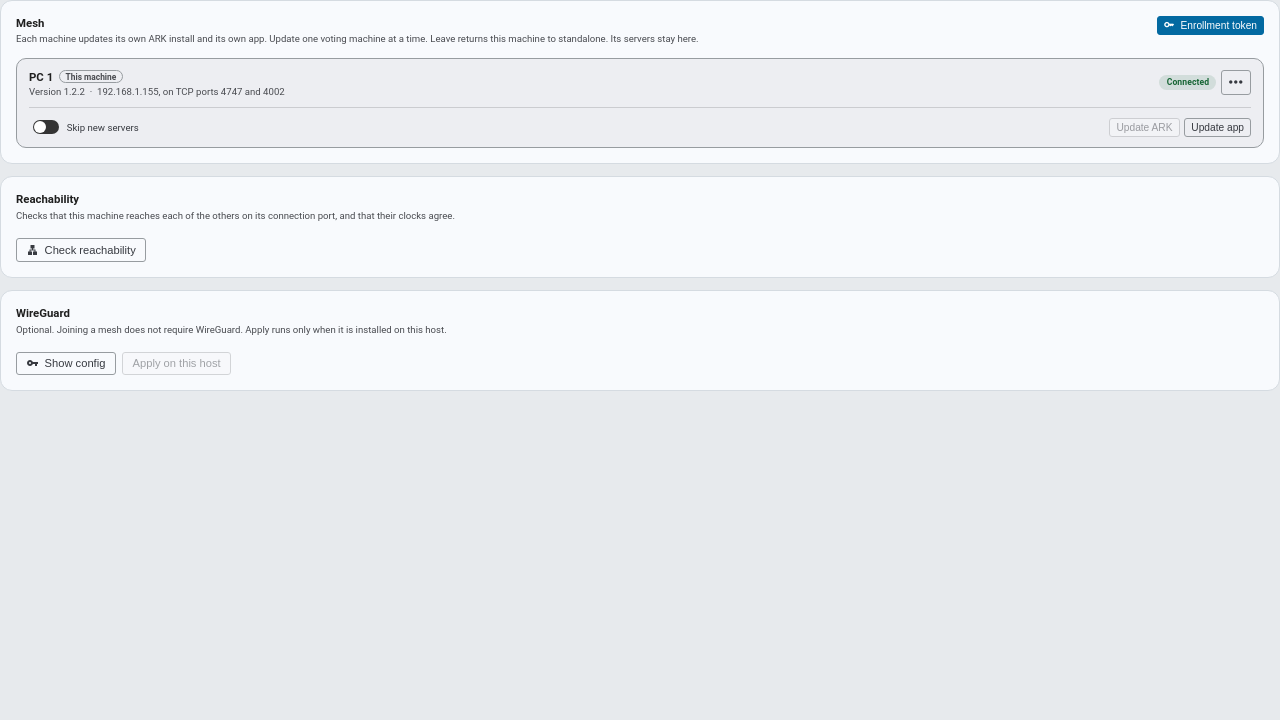
it: MeshSettingsComponent › the address other machines use › changes a machine's address, waiting for every machine to check it first
Click the button with class "mesh-node-more" at (1236, 82), box [1221,70,1251,95]
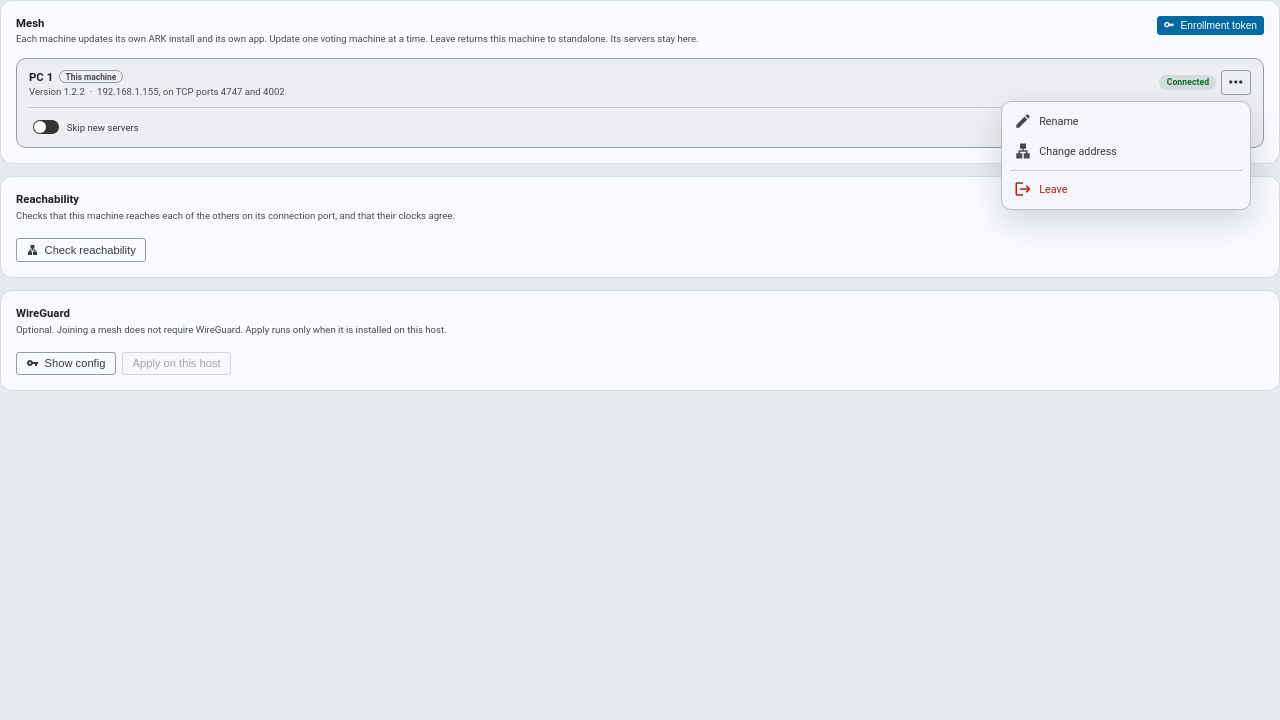
Click the menu item "Change address" at (1126, 151), box [1006,136,1246,166]
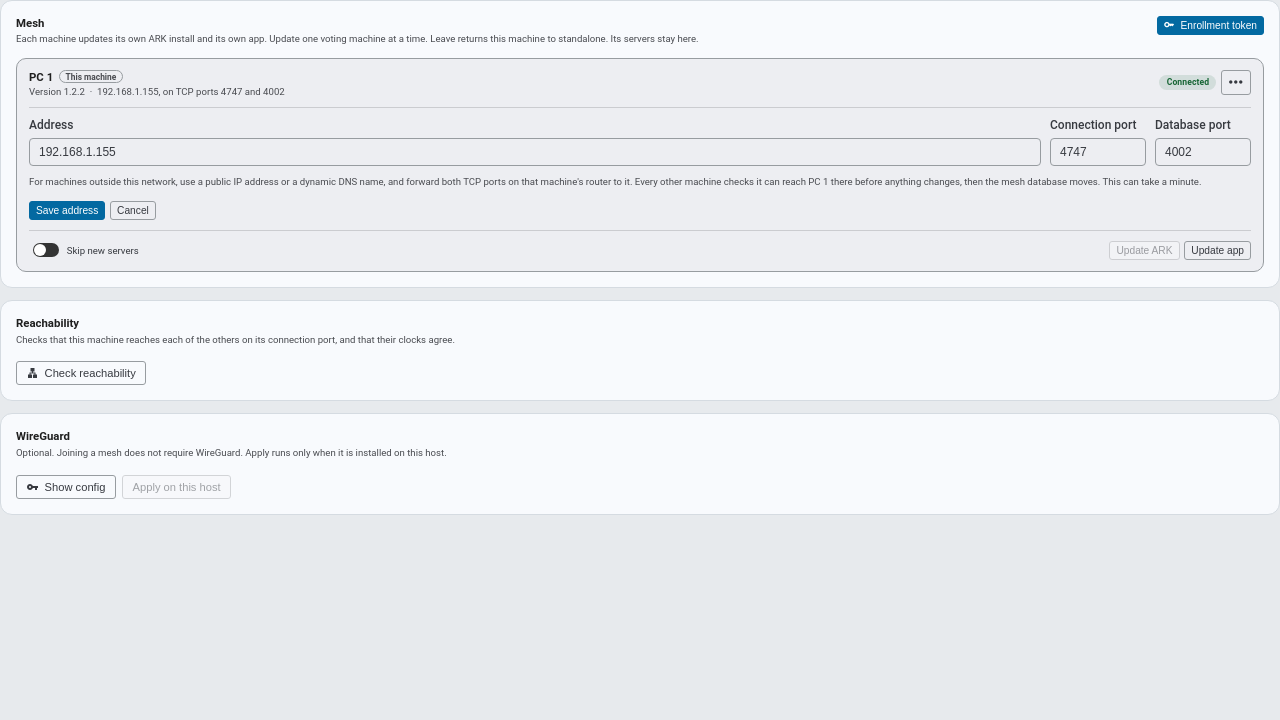
Replace the text in the field with class "mesh-address-host" with "mesh.example.org" at (535, 152), box [29,138,1041,166]
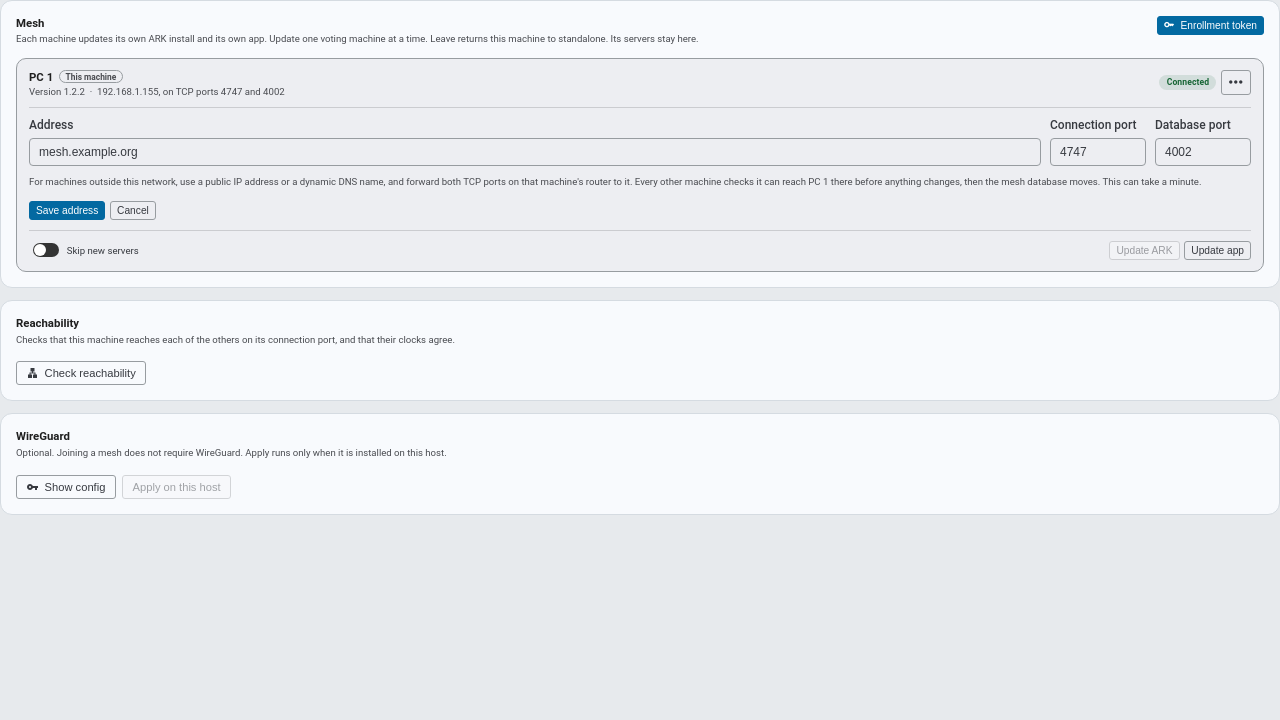
Replace the text in the number field with class "mesh-address-peer" with "14747" at (1098, 152), box [1050,138,1146,166]
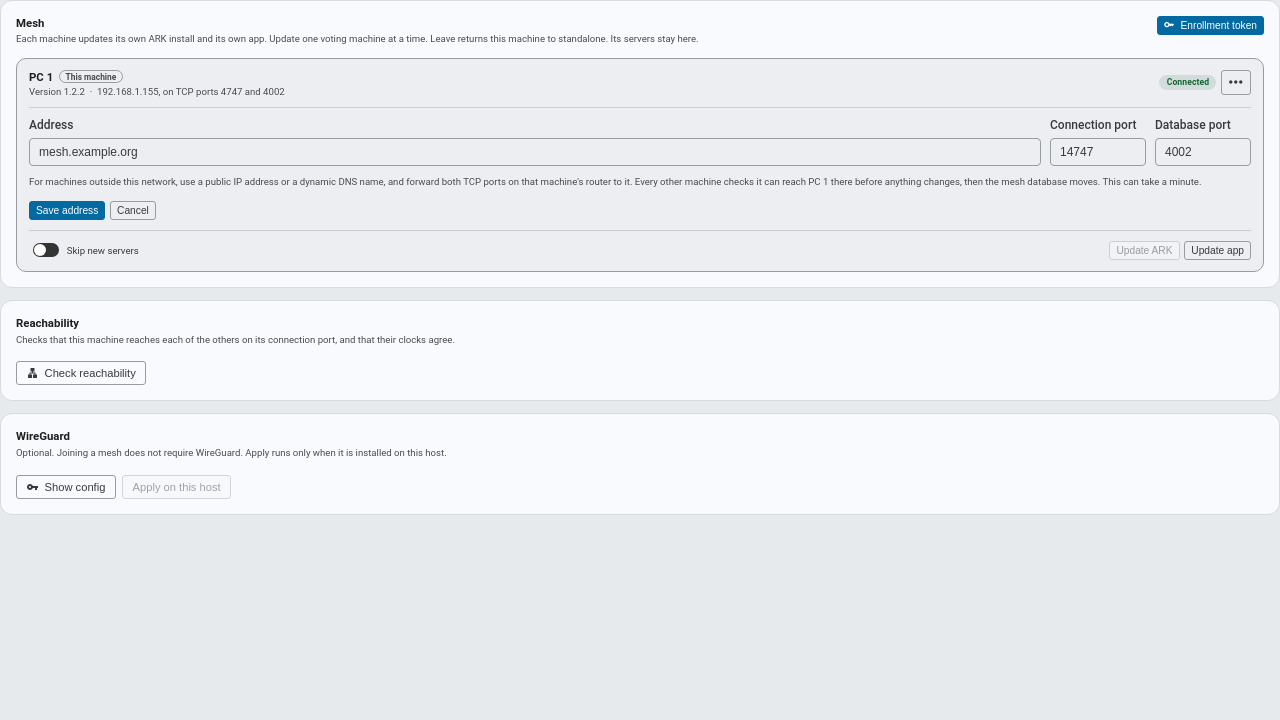
Replace the text in the number field with class "mesh-address-raft" with "14002" at (1203, 152), box [1155,138,1251,166]
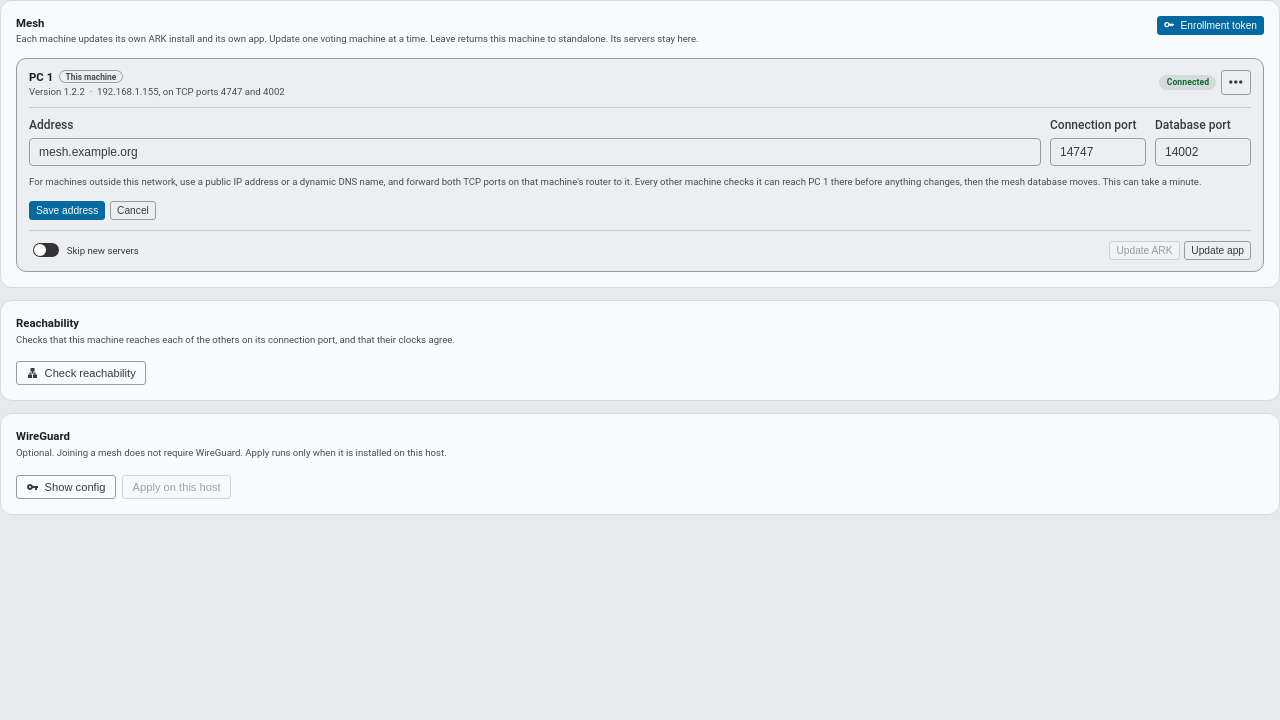
Click the button "Save address" at (67, 211), box [29,201,105,220]
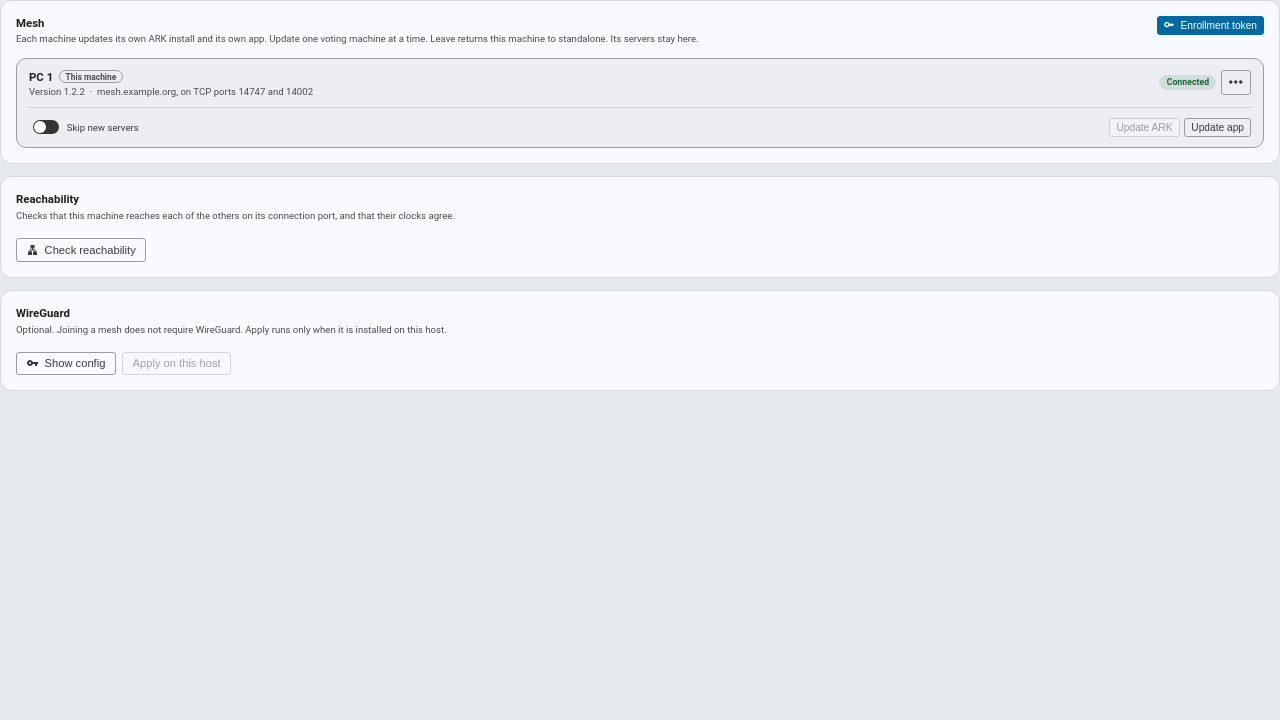
Now the field with class "mesh-address-host" is gone
Now the element with class "mesh-node-card" shows "mesh.example.org", box [97,86,313,97]
